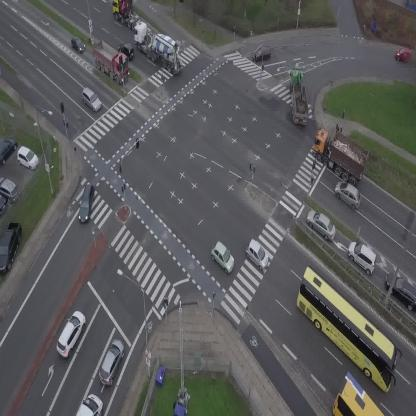bus: (279, 264, 416, 395)
car: (51, 308, 90, 359), (95, 336, 129, 387), (342, 236, 384, 276), (302, 205, 342, 244), (330, 177, 367, 211), (206, 240, 240, 275), (241, 238, 274, 271), (76, 183, 97, 223), (77, 86, 105, 113), (66, 34, 87, 56), (117, 40, 138, 61), (252, 45, 271, 60), (395, 49, 410, 62)
lorry: (303, 121, 377, 188), (123, 19, 192, 76), (84, 36, 138, 86), (288, 68, 310, 125), (76, 394, 102, 416)
